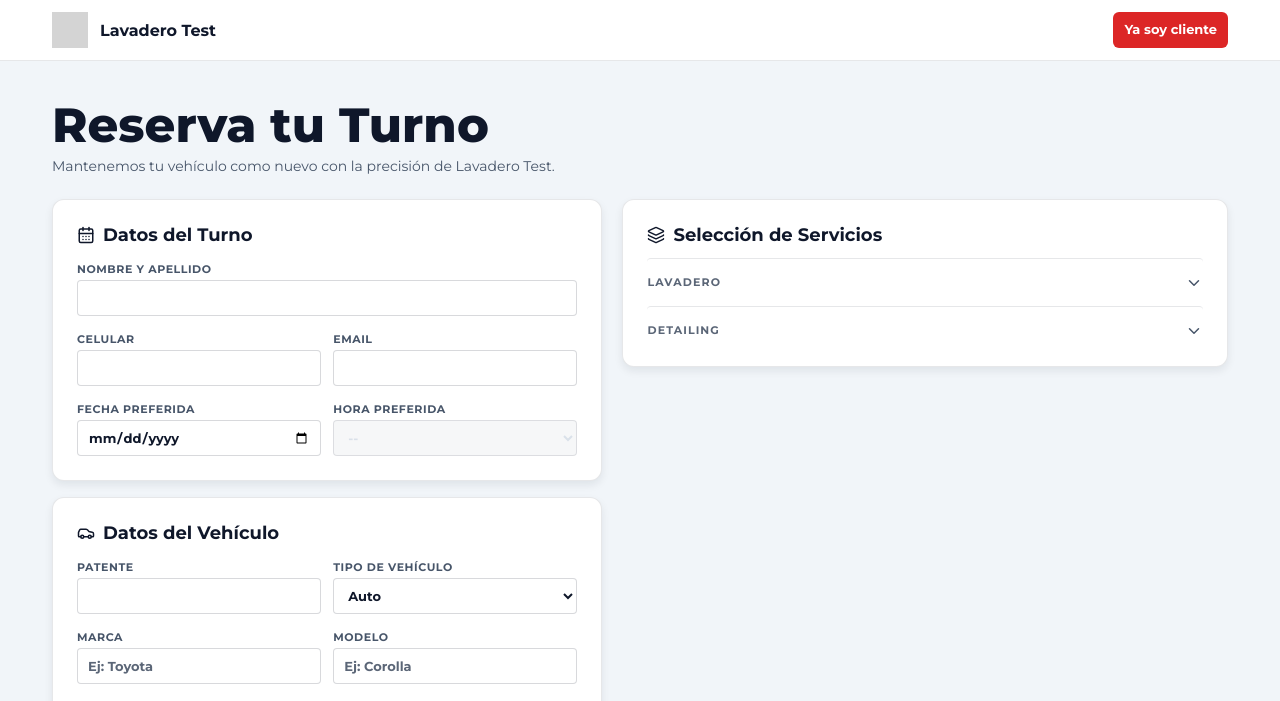
Test: validaciones locales muestran el mensaje sin listar campos
Check: the button "Lavadero" is shown, box [648,258,1203,294]
Type "Juan Pablo" into the field labelled "Nombre y apellido".
click(327, 298); type("Juan Pablo")  # box [77,280,578,316]
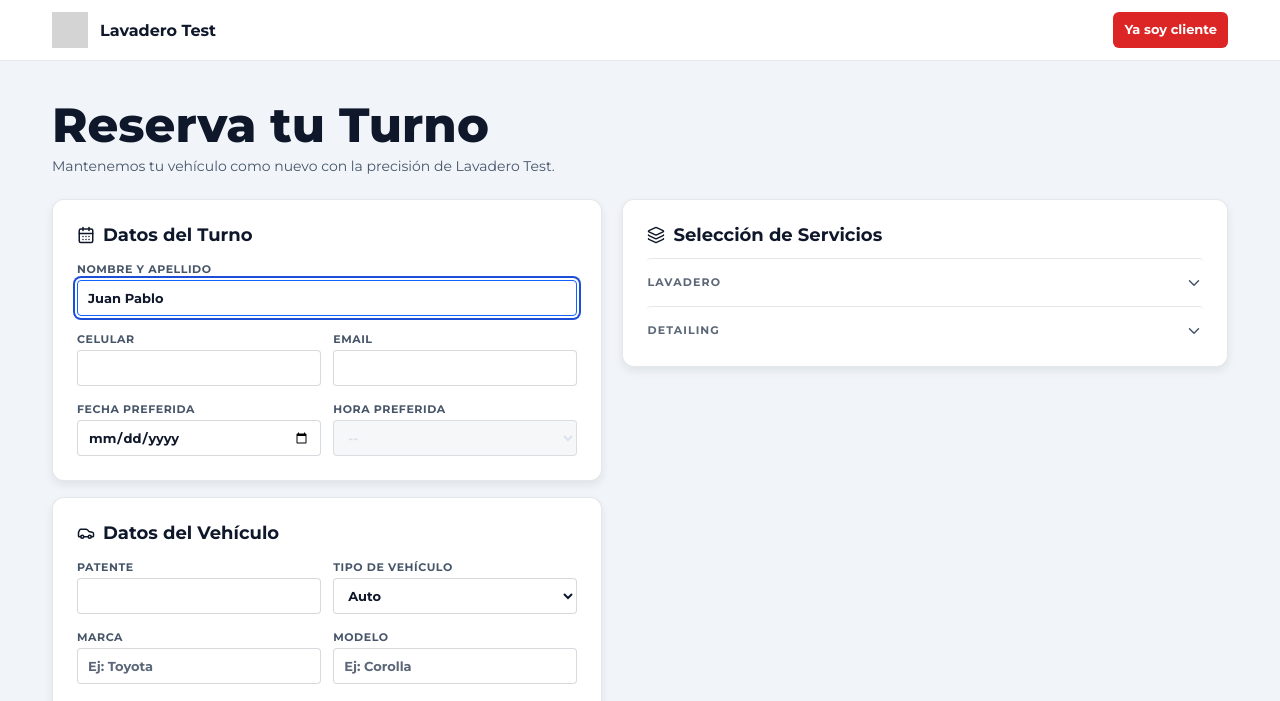
Type "1164321234" into the field labelled "Celular".
click(199, 368); type("1164321234")  # box [77,350,321,386]
(page scrolled)
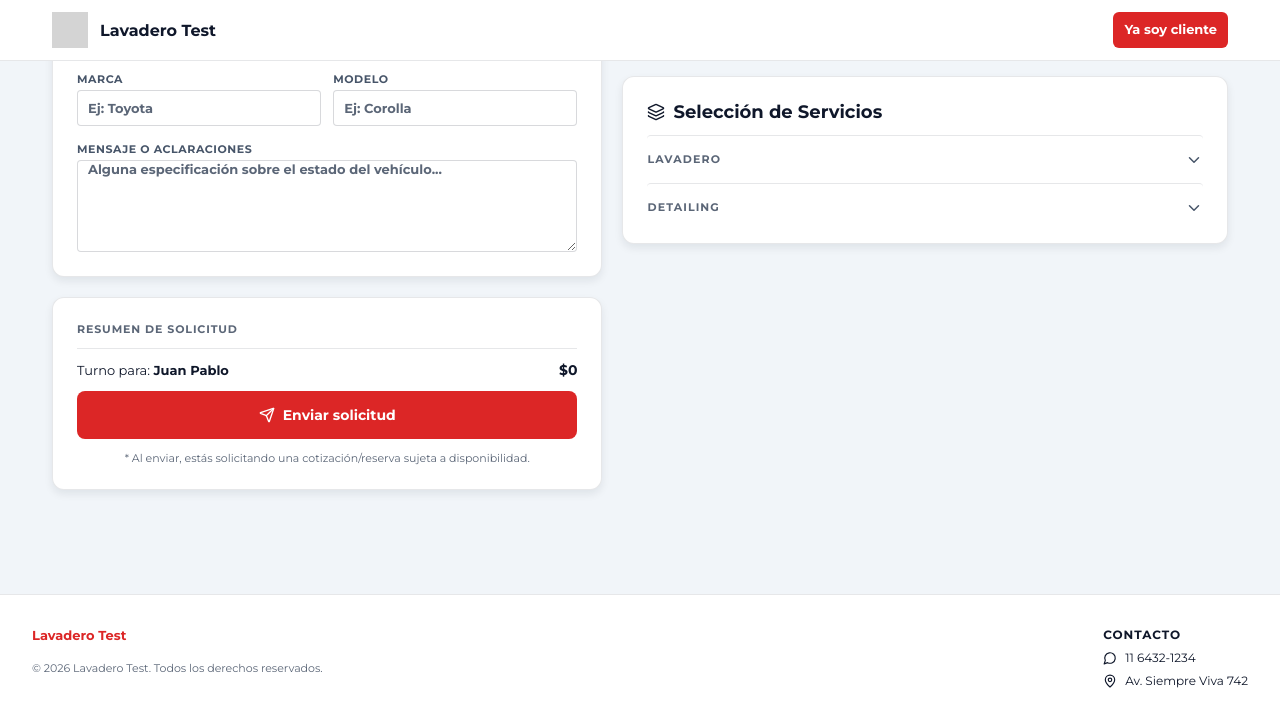
Click the button "Enviar solicitud".
click(327, 415)  # box [77,391,578,439]
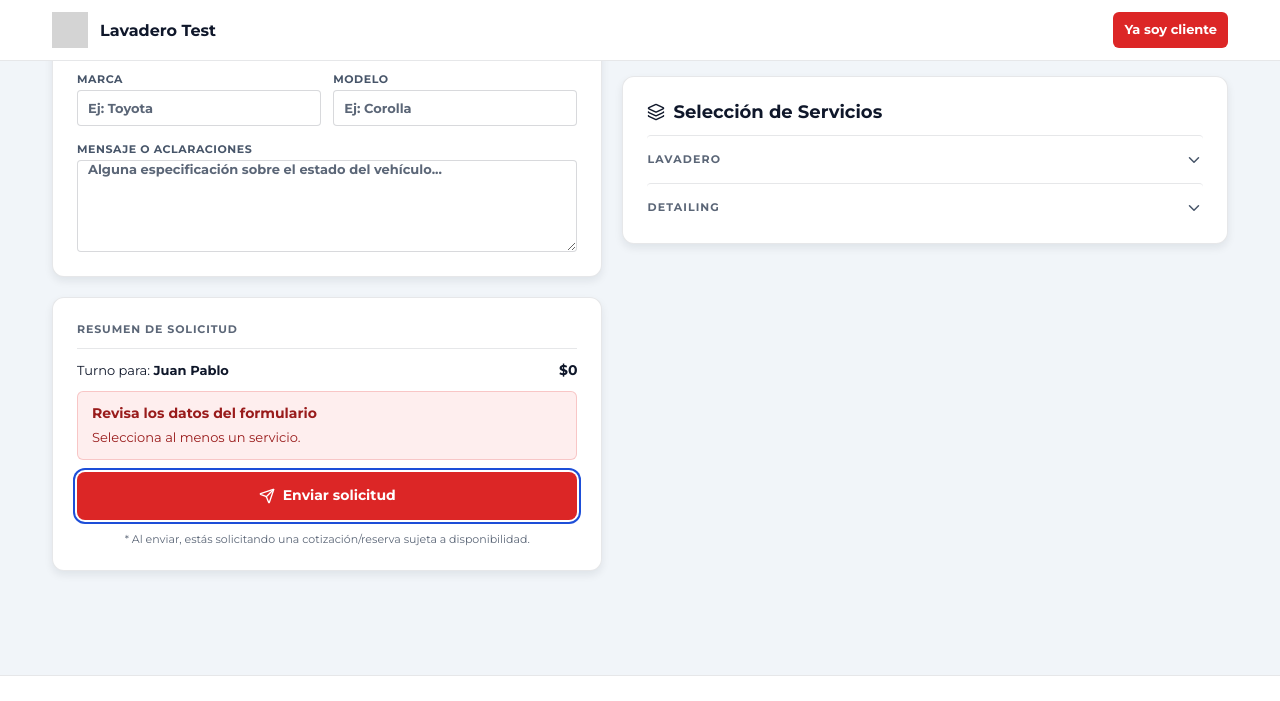
Check: the message shows "Selecciona al menos un servicio", box [92,429,300,445]
